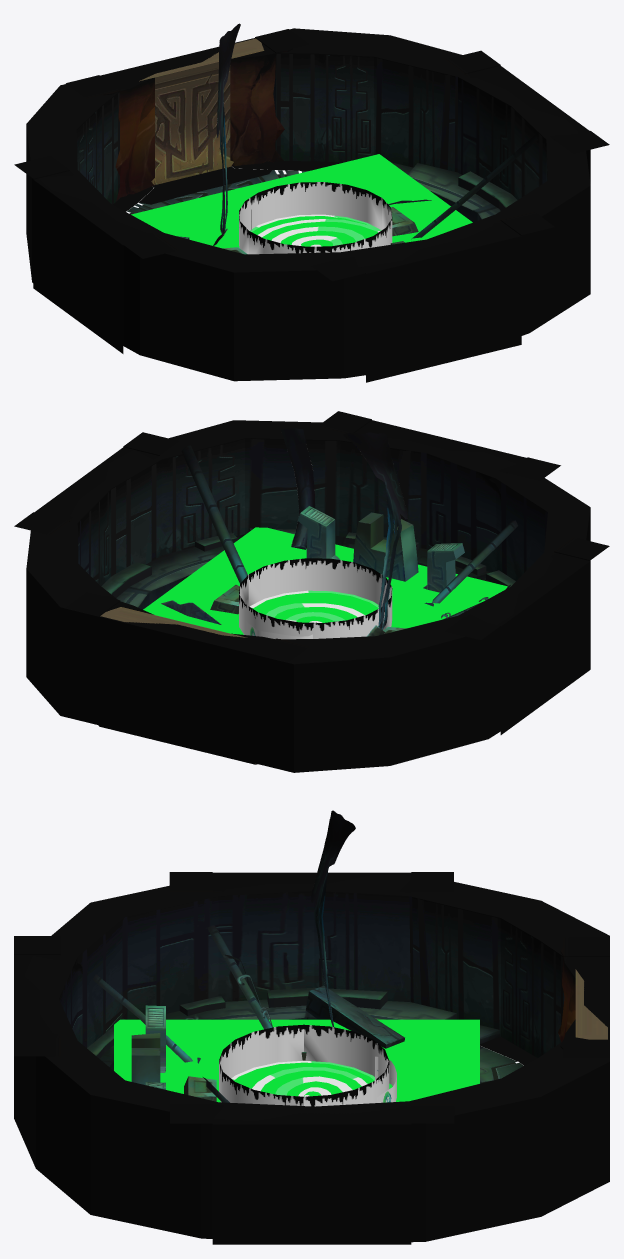
File: Dungeon_052_WarpRoom_008.fbx
3 renders of one model, top to bottom at view 1: azimuth 30°, elevation 25°; view 2: azimuth 150°, elevation 25°; view 3: azimuth 270°, elevation 25°, orthographic. The views are drawn at different scales.
Parts seen in each view (by area): view 1: Dun_011_WarpRoom_002_wall, Dun_011_Door_002 (×4), Dun_011_Door_002_old, EF_Dun_Portal_WarpRoom, Dun_011_Door_003_WarpRoom, EF_Dun_Portal_WarpRoom5, Dun_011_WarpRoom_002_ground, Dun_011_WarpRoom_002_object01, Dun_011_Door_002_shadow, EF_Dun_Portal_WarpRoom6, Dun_011_WarpRoom_001_shadow; view 2: Dun_011_WarpRoom_002_wall, Dun_011_Door_002 (×4), Dun_011_Door_002_old, Dun_011_WarpRoom_002_object01, EF_Dun_Portal_WarpRoom, EF_Dun_Portal_WarpRoom5, Dun_011_WarpRoom_002_ground, EF_Dun_Portal_WarpRoom6, Dun_011_Door_003_WarpRoom; view 3: Dun_011_WarpRoom_002_wall, Dun_011_Door_002 (×4), EF_Dun_Portal_WarpRoom, Dun_011_WarpRoom_002_object01, EF_Dun_Portal_WarpRoom5, Dun_011_WarpRoom_002_ground, Dun_011_Door_002_old, EF_Dun_Portal_WarpRoom6, Dun_011_Door_003_WarpRoom, Dun_011_WarpRoom_001_shadow.
Part boxes in pixels (x1,y1,x2,y2): Dun_011_WarpRoom_002_wall: (26, 28, 590, 381); Dun_011_Door_002 (×4): (14, 37, 609, 382); Dun_011_Door_002_old: (66, 29, 308, 196); EF_Dun_Portal_WarpRoom: (131, 154, 472, 248); Dun_011_Door_003_WarpRoom: (139, 38, 264, 185); EF_Dun_Portal_WarpRoom5: (239, 182, 392, 254); Dun_011_WarpRoom_002_ground: (127, 162, 517, 222); Dun_011_WarpRoom_002_object01: (178, 23, 537, 254); Dun_011_Door_002_shadow: (139, 166, 271, 204); EF_Dun_Portal_WarpRoom6: (250, 214, 381, 246); Dun_011_WarpRoom_001_shadow: (113, 161, 342, 211); Dun_011_WarpRoom_002_wall: (26, 420, 590, 772); Dun_011_Door_002 (×4): (14, 411, 609, 764); Dun_011_Door_002_old: (66, 592, 309, 763); Dun_011_WarpRoom_002_object01: (161, 428, 517, 763); EF_Dun_Portal_WarpRoom: (143, 527, 507, 634); EF_Dun_Portal_WarpRoom5: (239, 558, 392, 638); Dun_011_WarpRoom_002_ground: (98, 528, 515, 764); EF_Dun_Portal_WarpRoom6: (249, 590, 378, 622); Dun_011_Door_003_WarpRoom: (100, 607, 247, 637); Dun_011_WarpRoom_002_wall: (14, 874, 609, 1242); Dun_011_Door_002 (×4): (14, 872, 609, 1244); EF_Dun_Portal_WarpRoom: (114, 1019, 479, 1102); Dun_011_WarpRoom_002_object01: (92, 810, 404, 1102); EF_Dun_Portal_WarpRoom5: (219, 1024, 389, 1106); Dun_011_WarpRoom_002_ground: (87, 987, 523, 1083); Dun_011_Door_002_old: (560, 937, 609, 1057); EF_Dun_Portal_WarpRoom6: (231, 1060, 375, 1096); Dun_011_Door_003_WarpRoom: (575, 969, 607, 1039); Dun_011_WarpRoom_001_shadow: (480, 1036, 537, 1065).
Size of what is drawn, in the model's own units: 9 by 4.63 by 9.
